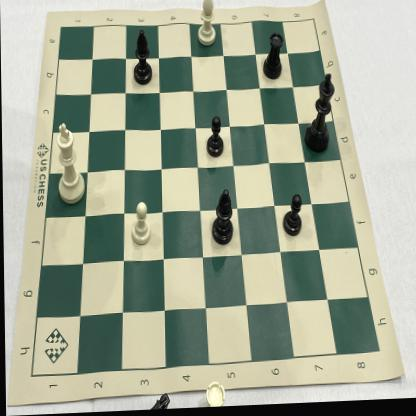black-bishop: (206, 186, 238, 251), (130, 27, 158, 92)
black-king: (302, 70, 336, 163)
black-pawn: (278, 192, 304, 244), (202, 114, 229, 163)
black-rook: (260, 32, 288, 84)
white-bishop: (196, 0, 224, 52)
white-king: (53, 112, 91, 211)
white-pawn: (128, 197, 156, 249)
